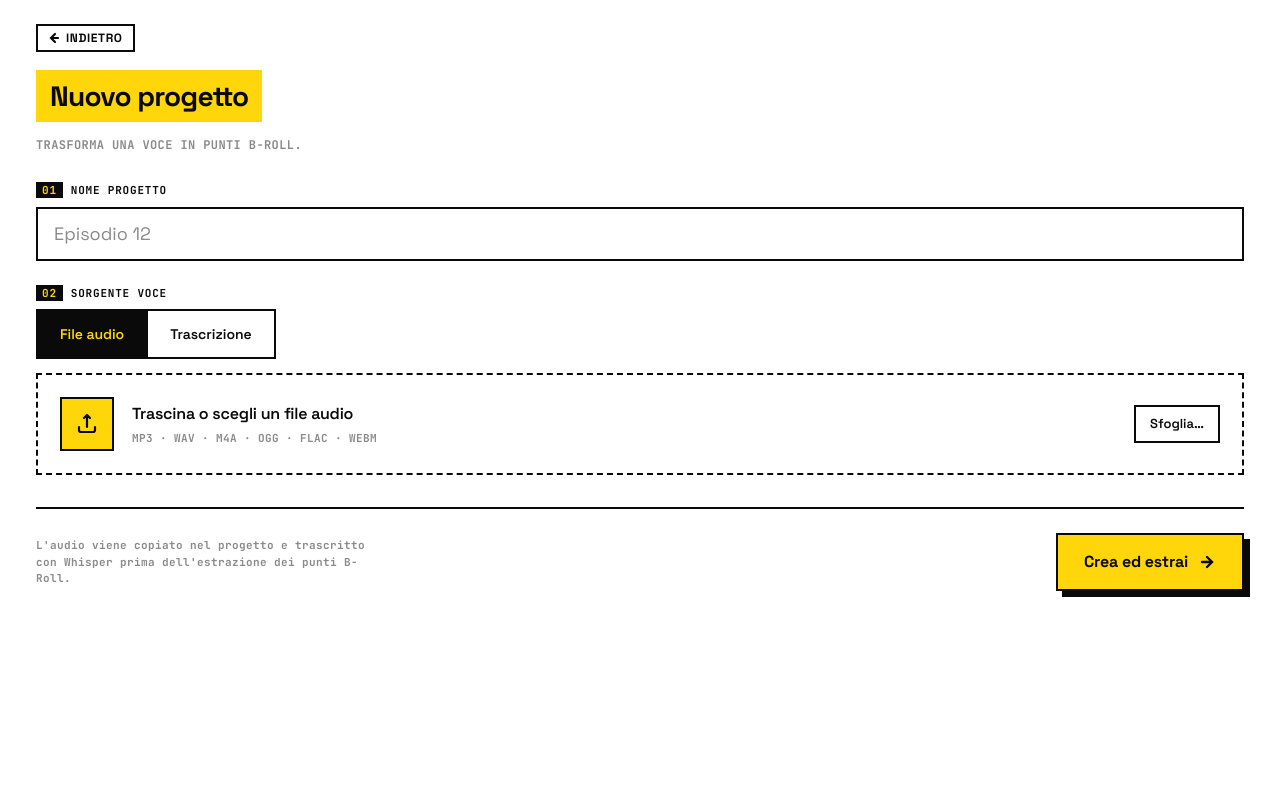
Test: ImportPage › validates project name before creating
This screenshot has width=1280, height=800.
Click the button "Crea ed estrai" at (1150, 562), box x1=1056 y1=533 x2=1244 y2=591
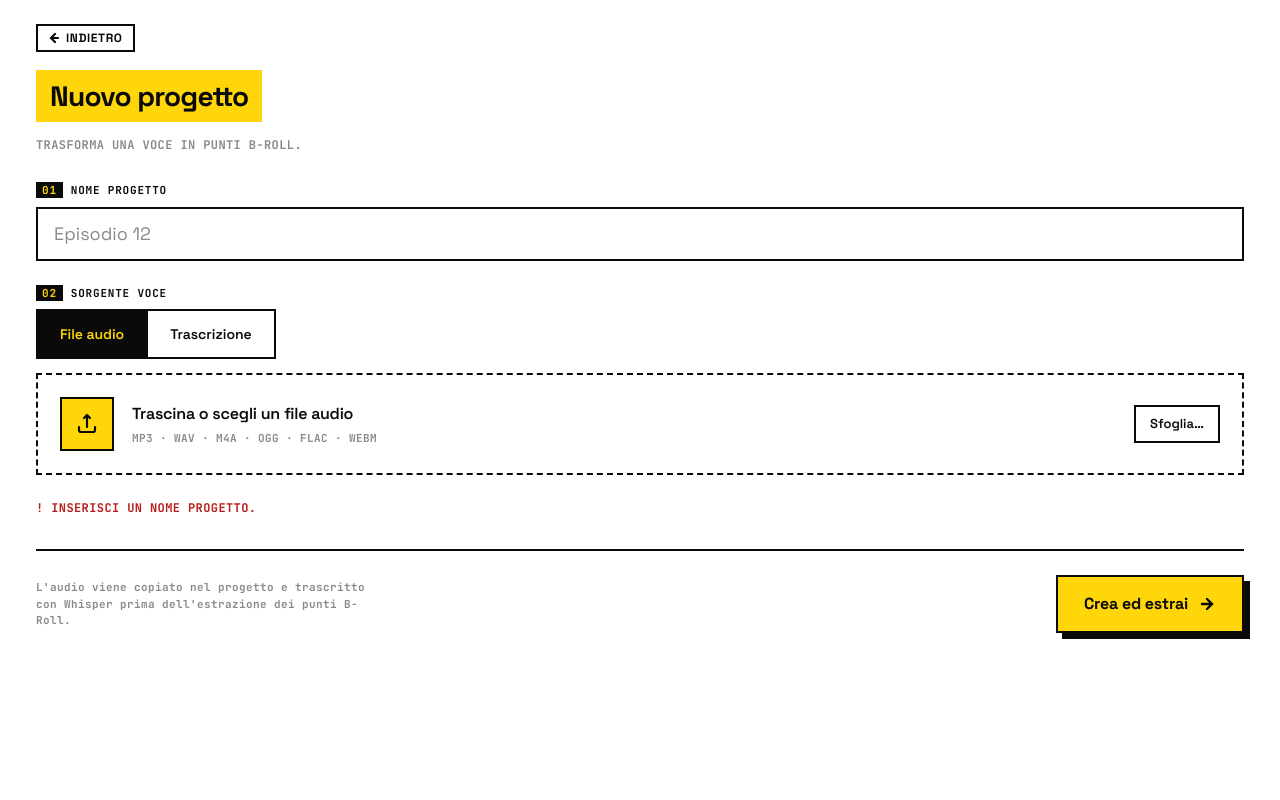
Result: the text "! Inserisci un nome progetto." is shown at x1=36 y1=500 x2=256 y2=516
